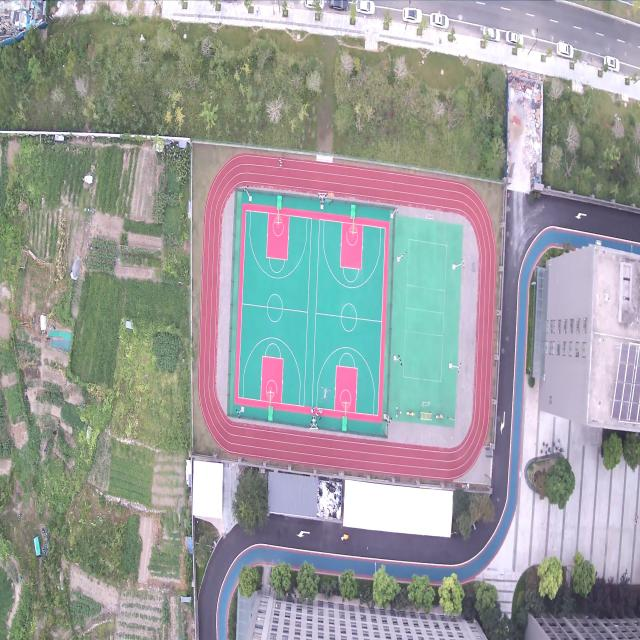drone: (320, 386, 330, 401)
